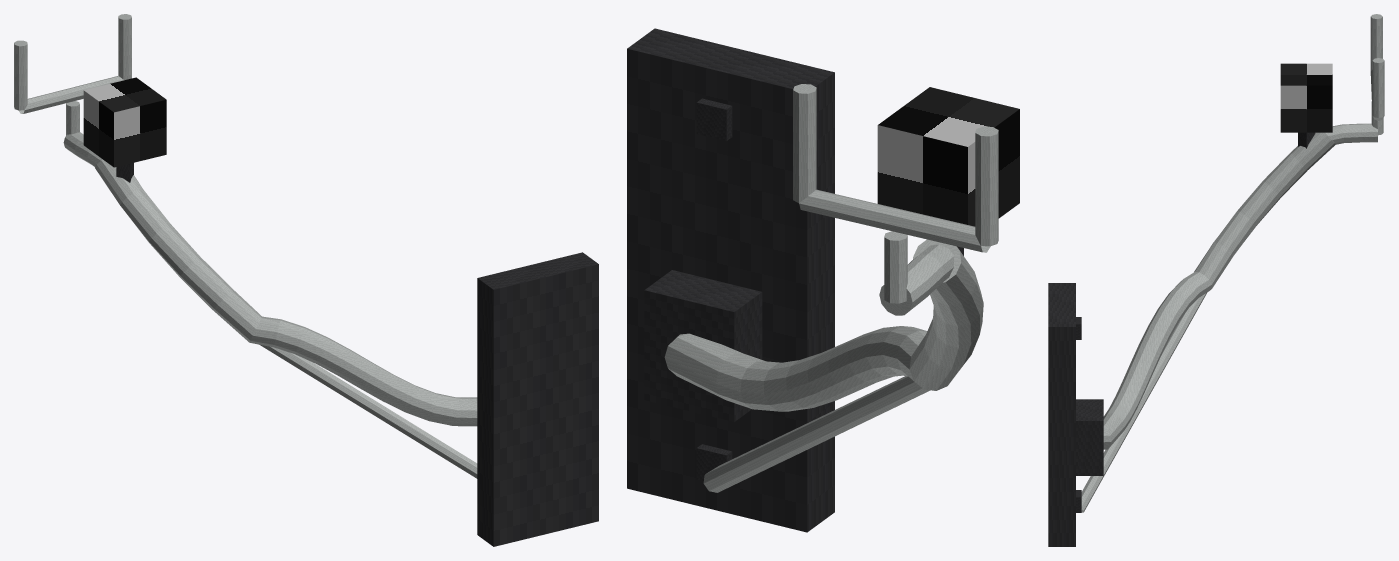
The model's file is arm_1_left_flood_up.obj.
The picture shows the model from 3 angles, left to right: view 1: azimuth 30°, elevation 25°; view 2: azimuth 150°, elevation 25°; view 3: azimuth 270°, elevation 25°; orthographic projection. The views are drawn at different scales.
Parts seen in each view (by area): view 1: pole_light_mount_1_left_flood_up; view 2: pole_light_mount_1_left_flood_up; view 3: pole_light_mount_1_left_flood_up.
Part boxes in pixels (x1=…): pole_light_mount_1_left_flood_up: x1=14, y1=14, x2=598, y2=546; pole_light_mount_1_left_flood_up: x1=627, y1=28, x2=1019, y2=532; pole_light_mount_1_left_flood_up: x1=1048, y1=14, x2=1384, y2=546.
Bounding box in the file's own units: 1.4 × 1.47 × 1.21.
